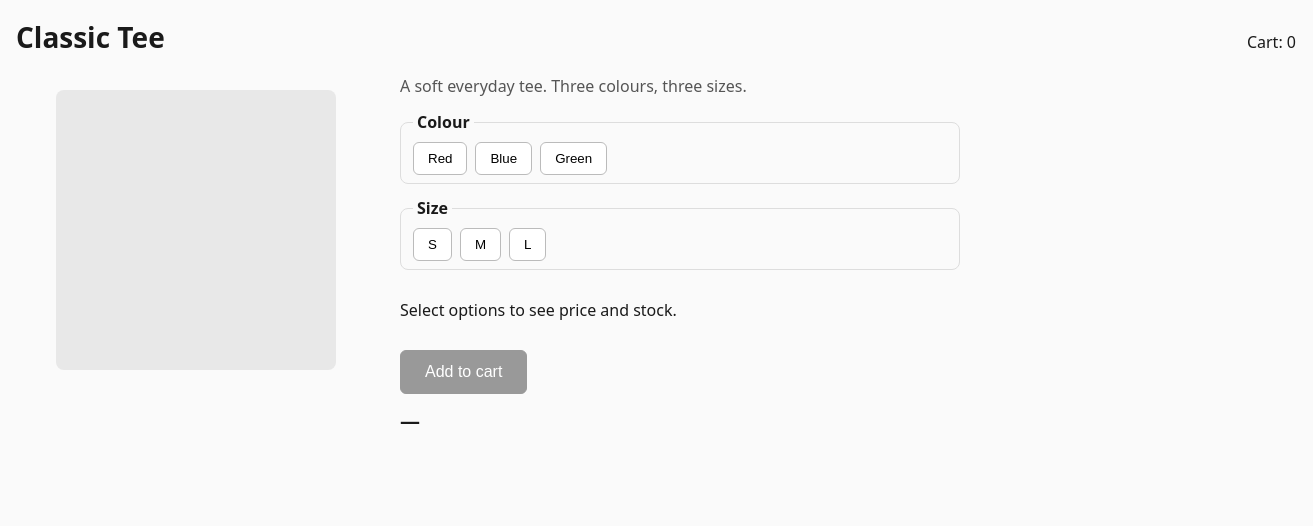
Test: APP-FE-8: stale stock refresh › a successful add refreshes the SKU stock in place, no page reload
The image size is (1313, 526).
Check: the heading "Classic Tee" is shown, box [16,16,165,58]
Click the button "Red" at (440, 158), box [413,142,468,175]
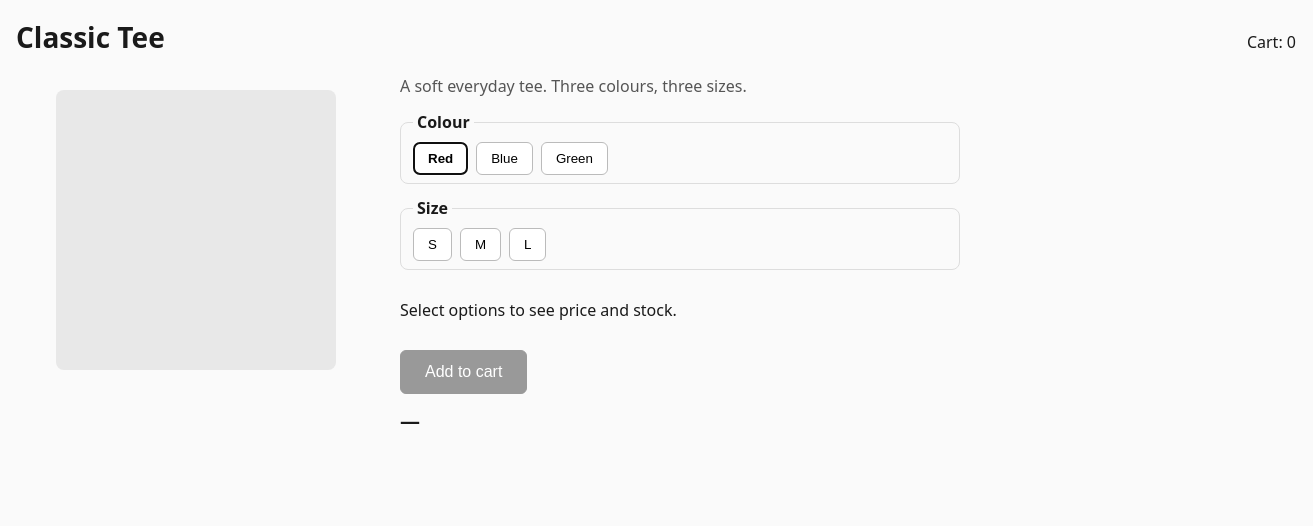
Click the button "S" at (432, 244), box [413,228,452,261]
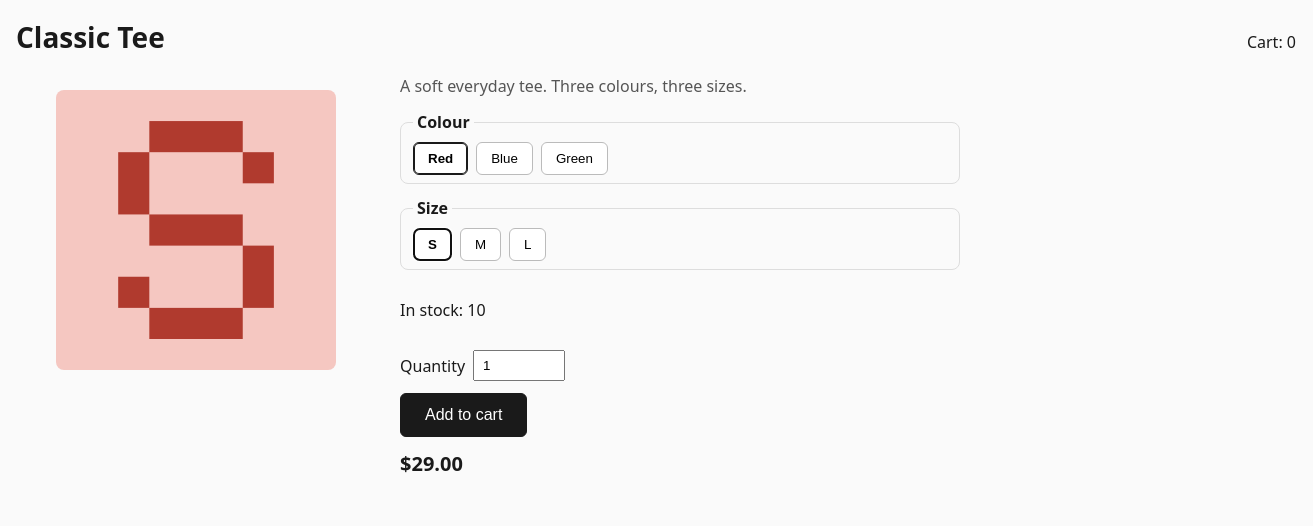
Check: the text "In stock: 10" is shown, box [400,299,486,321]
Replace the text in the number field labelled "Quantity" with "2" at (519, 366), box [473,350,565,381]
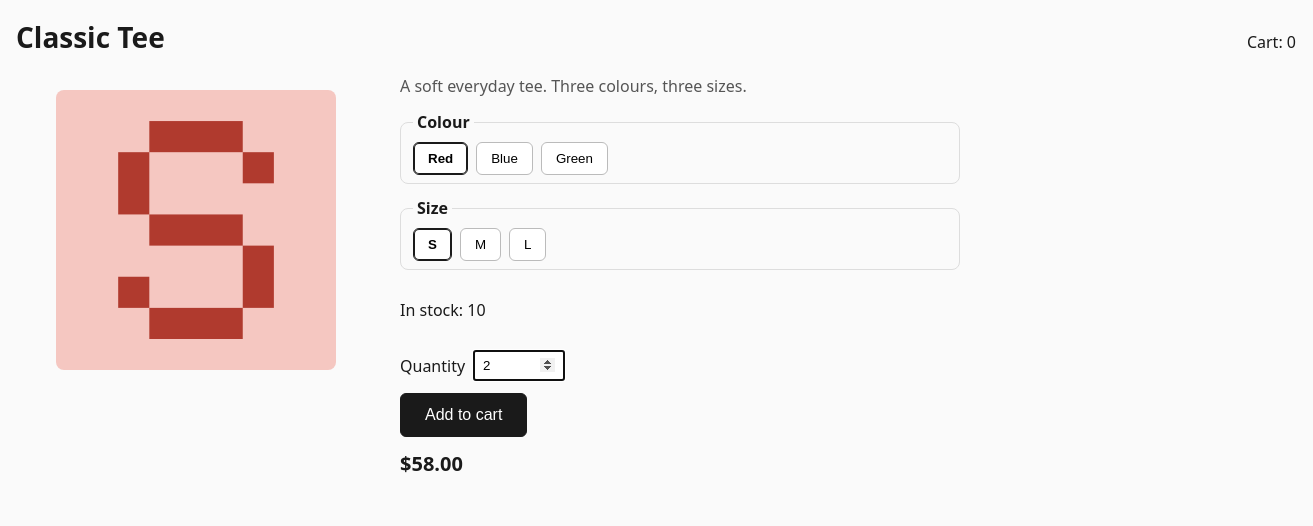
Click the button "Add to cart" at (464, 415), box [400,393,527,437]
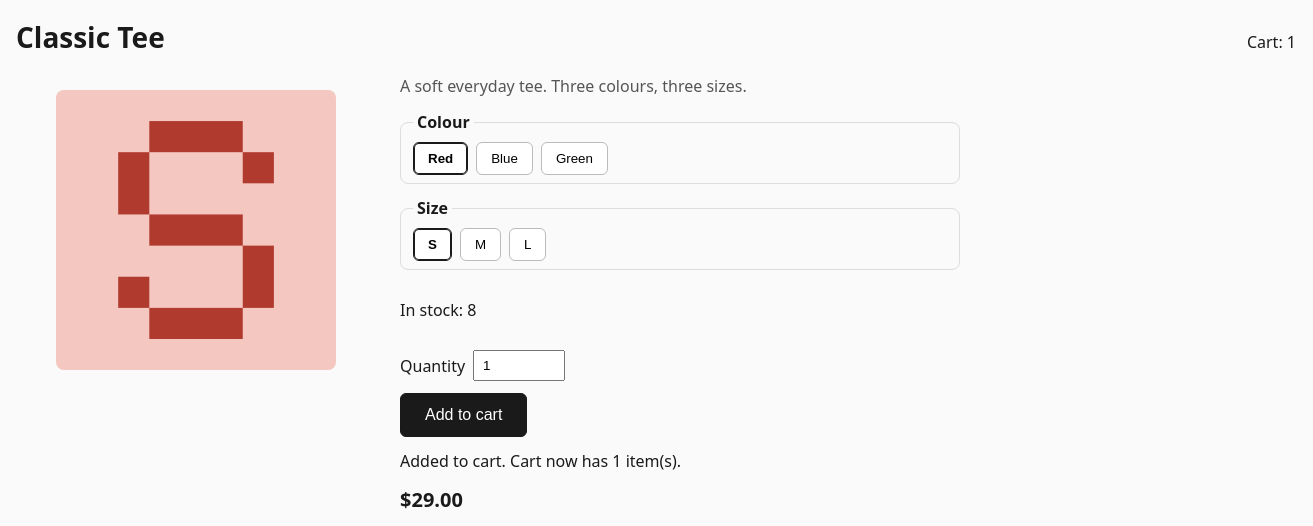
Check: the text "In stock: 8" is shown, box [400,299,476,321]
Check: the number field labelled "Quantity" holds "1", box [473,350,565,381]
